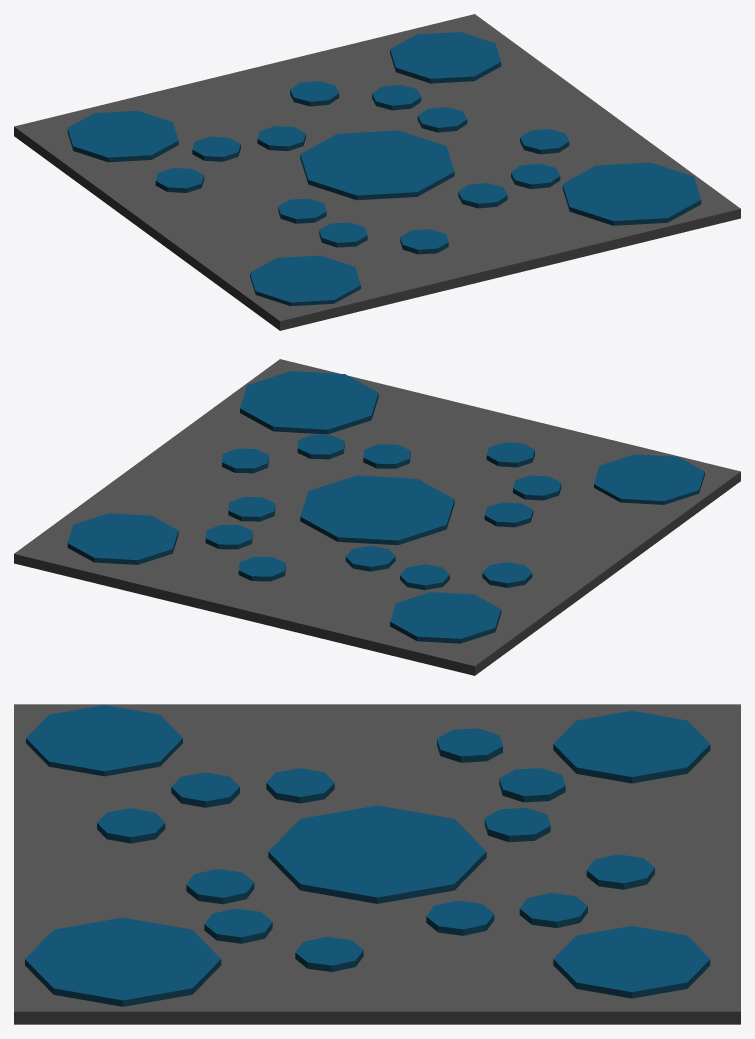
File: floor_type_06.fbx
3 views of the same model, one above another, from view 1: azimuth 30°, elevation 25°; view 2: azimuth 150°, elevation 25°; view 3: azimuth 270°, elevation 25° (orthographic). The views are drawn at different scales.
Parts seen in each view (by area): view 1: floor_type_06; view 2: floor_type_06; view 3: floor_type_06.
Part boxes in pixels (x1,y1,x2,y2): floor_type_06: (14,14,740,330); floor_type_06: (14,359,740,675); floor_type_06: (14,704,740,1024).
Size of the model in its own units: 200 by 5.95 by 200.
